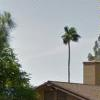Palm tree: (61, 16, 85, 81)
